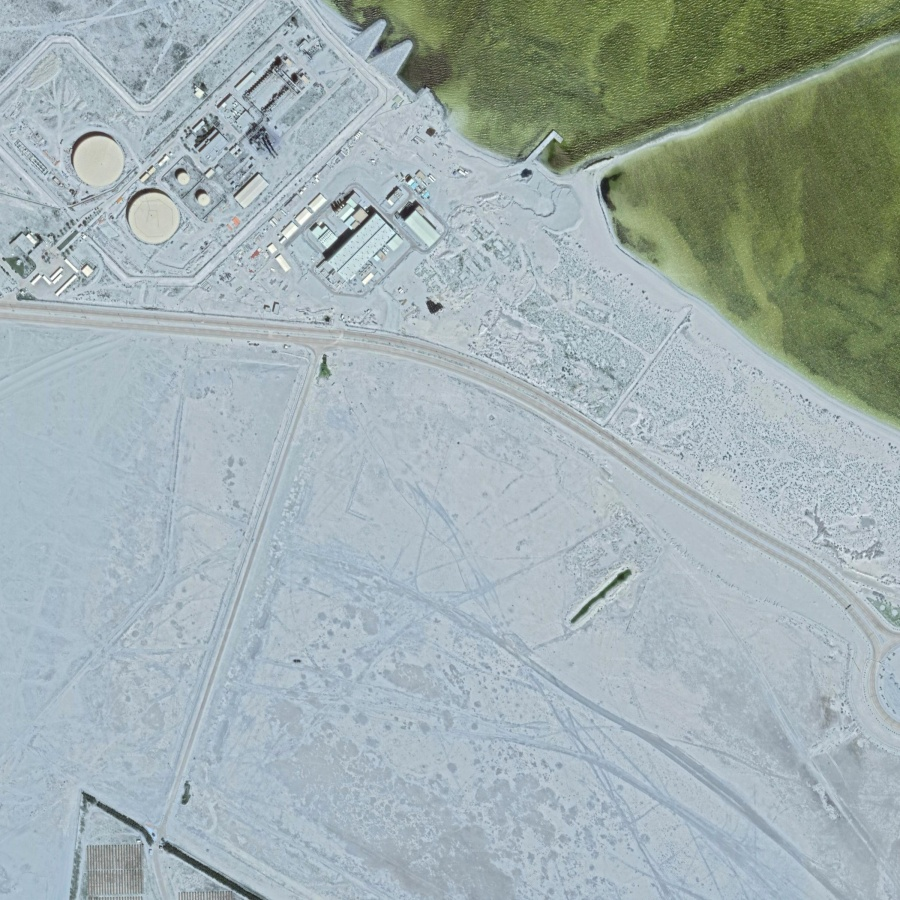PowerPlant: (50, 26, 455, 313)
